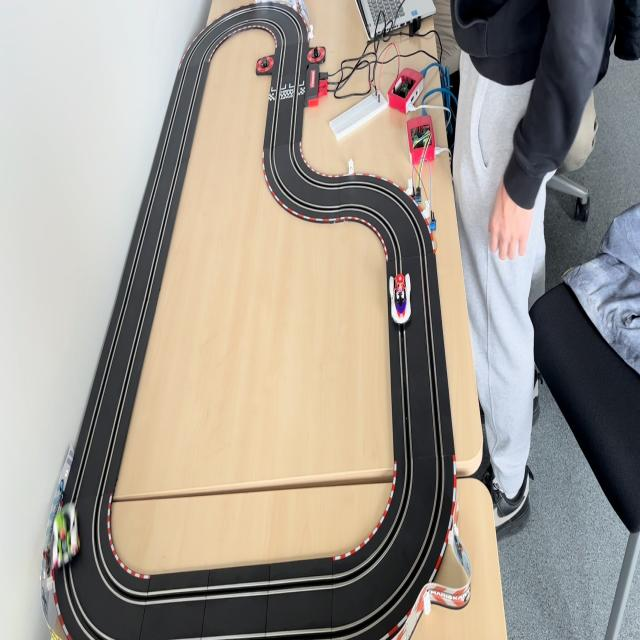mario: (386, 272, 414, 324)
yoshi: (56, 500, 78, 569)
